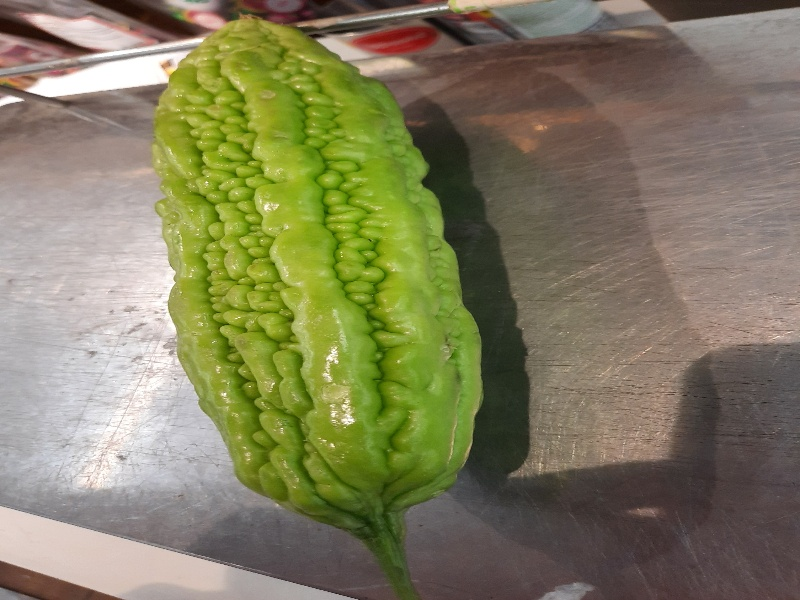vege: (139, 10, 493, 594)
